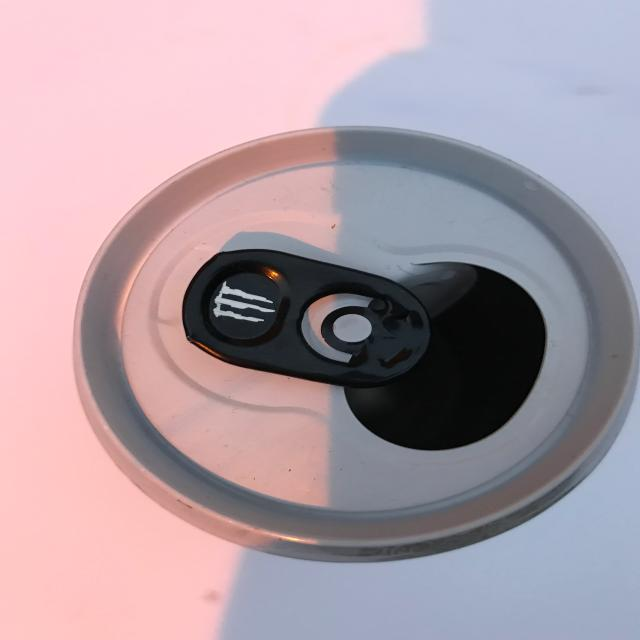metal: (72, 124, 640, 564)
